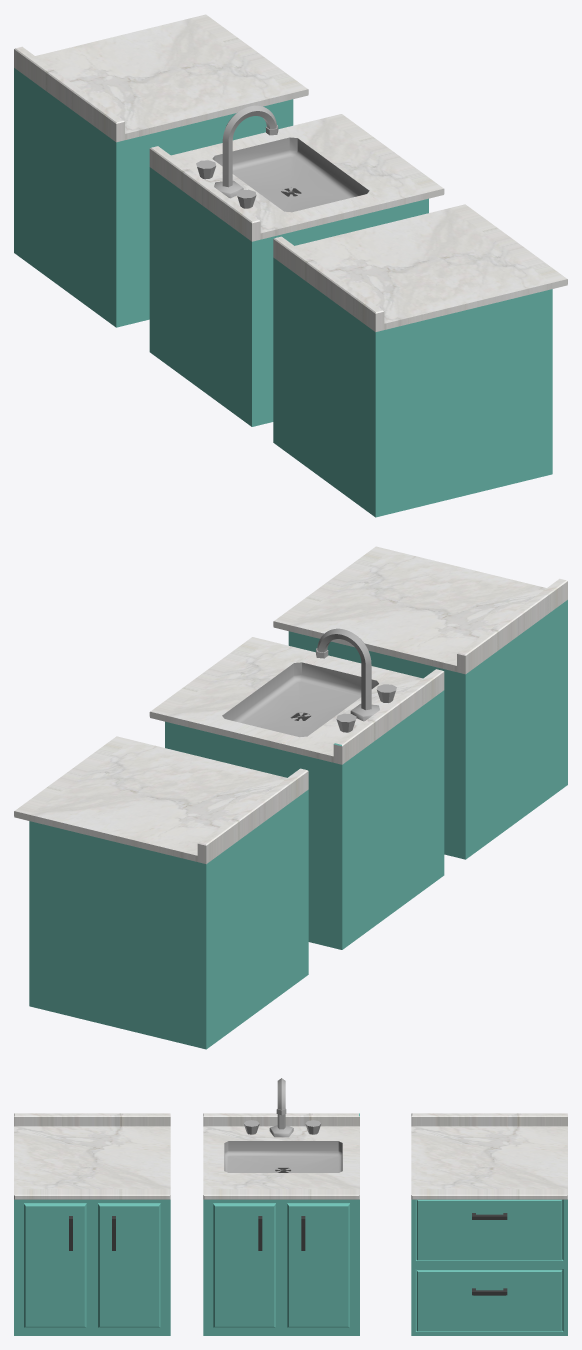
File: Asset008_Balcao.fbx
3 renders of one model, top to bottom at view 1: azimuth 30°, elevation 25°; view 2: azimuth 150°, elevation 25°; view 3: azimuth 270°, elevation 25°, orthographic. The views are drawn at different scales.
Visible parts, largest first — view 1: Corpo_2, Corpo, Corpo_3, Sweep; view 2: Corpo, Corpo_3, Corpo_2, Sweep; view 3: Corpo_2, Corpo_3, Corpo, Gaveta_2, Gaveta_1, Corpo_2_3, Corpo_1_2, Corpo_2_2, Corpo_1, Sweep.
Boxes of the visible parts, <box> form: Corpo_2: <box>273,204,567,517</box>; Corpo: <box>14,14,308,327</box>; Corpo_3: <box>149,114,444,426</box>; Sweep: <box>214,105,278,198</box>; Corpo: <box>14,736,308,1049</box>; Corpo_3: <box>149,637,444,949</box>; Corpo_2: <box>273,546,567,859</box>; Sweep: <box>316,628,379,721</box>; Corpo_2: <box>14,1113,170,1335</box>; Corpo_3: <box>203,1113,359,1335</box>; Corpo: <box>411,1113,567,1335</box>; Gaveta_2: <box>417,1269,562,1331</box>; Gaveta_1: <box>417,1199,562,1260</box>; Corpo_2_3: <box>287,1203,349,1327</box>; Corpo_1_2: <box>213,1203,275,1327</box>; Corpo_2_2: <box>98,1203,160,1327</box>; Corpo_1: <box>24,1203,86,1327</box>; Sweep: <box>269,1078,293,1137</box>.
Bounding box in the file's own units: 109 × 146 × 354.
Materials: 4 (1 with a texture image).
